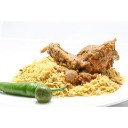briyani: (22, 38, 120, 96)
